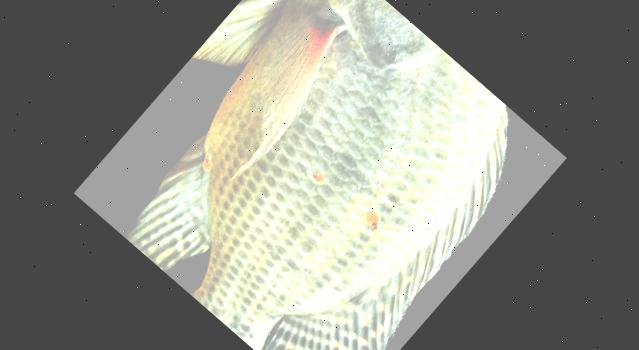Parasitic Disease: (127, 0, 507, 350)
